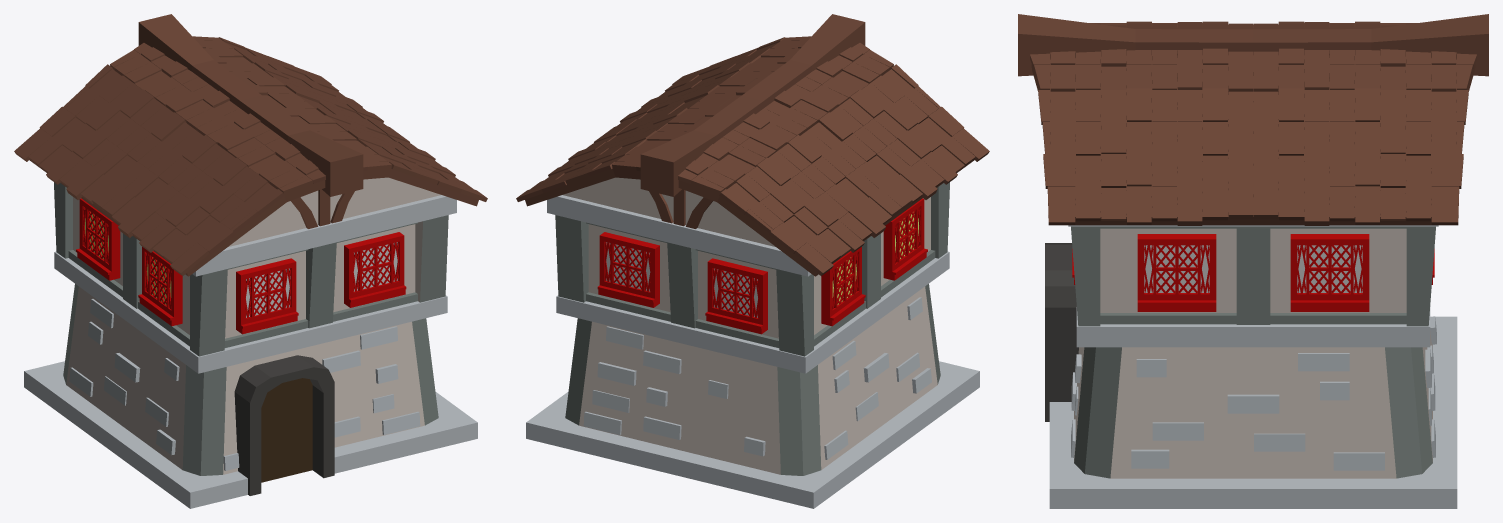
File: SM_Hous_23_A.gltf
3 views of the same model, side by side, from view 1: azimuth 30°, elevation 25°; view 2: azimuth 150°, elevation 25°; view 3: azimuth 270°, elevation 25° (orthographic). The views are drawn at different scales.
Parts seen in each view (by area): view 1: SM_Hous_23_A; view 2: SM_Hous_23_A; view 3: SM_Hous_23_A.
Boxes of the visible parts, <box> form: SM_Hous_23_A: <box>14,14,487,508</box>; SM_Hous_23_A: <box>516,14,989,508</box>; SM_Hous_23_A: <box>1018,14,1488,508</box>.
Bounding box in the file's own units: 6.66 × 6.71 × 7.18.
